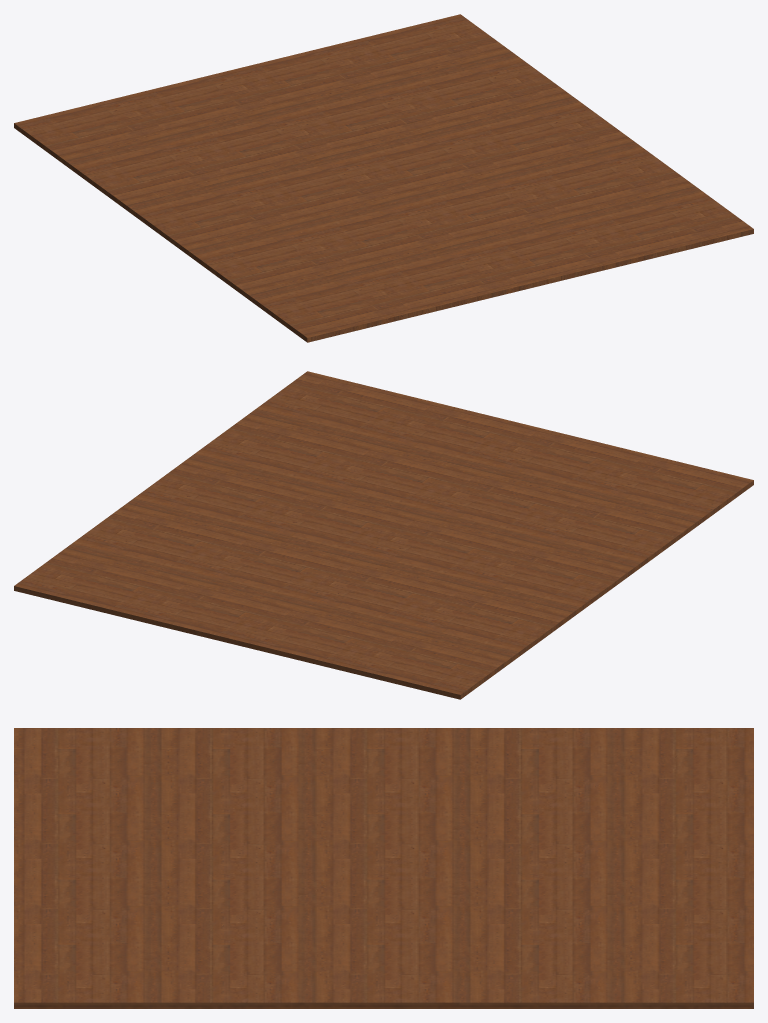
The model's file is Floor_Inside_Part2.fbx.
3 views of the same model, one above another, from view 1: azimuth 30°, elevation 25°; view 2: azimuth 150°, elevation 25°; view 3: azimuth 270°, elevation 25° (orthographic). The views are drawn at different scales.
Visible parts, largest first — view 1: Floor_Inside_Part2; view 2: Floor_Inside_Part2; view 3: Floor_Inside_Part2.
Boxes of the visible parts, x1=… form: Floor_Inside_Part2: x1=14, y1=14, x2=753, y2=342; Floor_Inside_Part2: x1=14, y1=371, x2=753, y2=699; Floor_Inside_Part2: x1=14, y1=728, x2=753, y2=1008.
Size of the model in its own units: 1111 by 11.43 by 1265.
